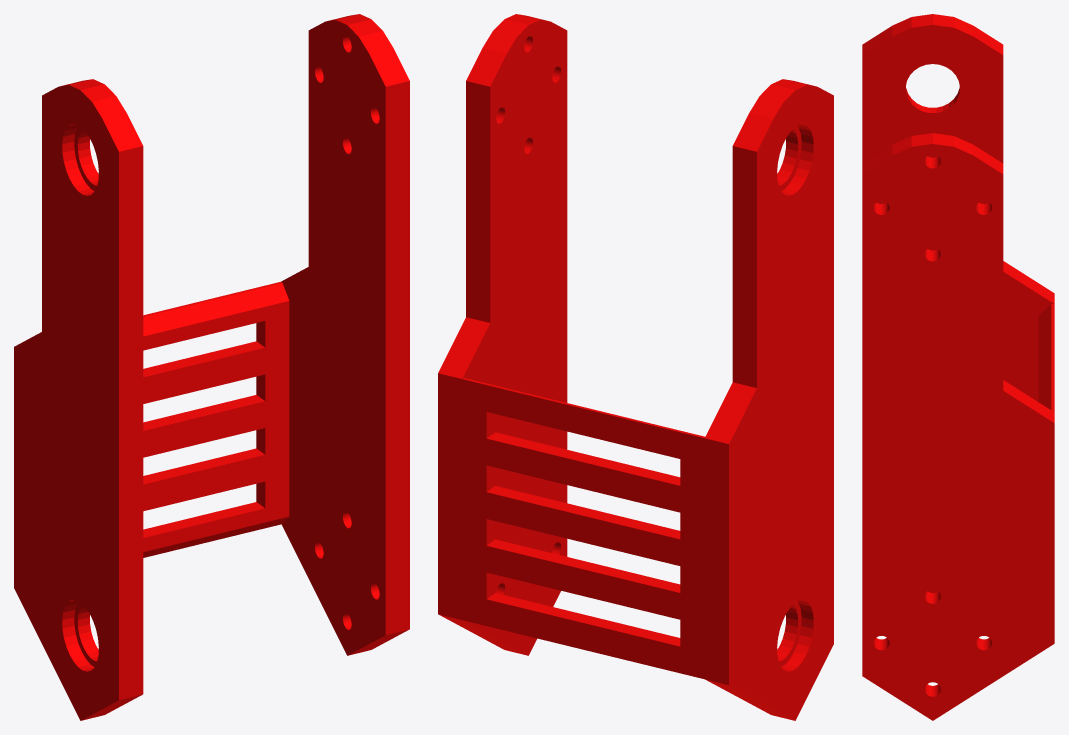
File: Right_upper_leg.dae
The picture shows the model from 3 angles, left to right: view 1: azimuth 30°, elevation 25°; view 2: azimuth 150°, elevation 25°; view 3: azimuth 270°, elevation 25°; orthographic projection. The views are drawn at different scales.
Visible parts, largest first — view 1: node0; view 2: node0; view 3: node0.
Part boxes in pixels (bbox=[...]): node0: bbox=[14, 14, 409, 720]; node0: bbox=[438, 14, 833, 720]; node0: bbox=[862, 14, 1054, 720].
Bounding box in the file's own units: 0.048 × 0.03 × 0.0994.
